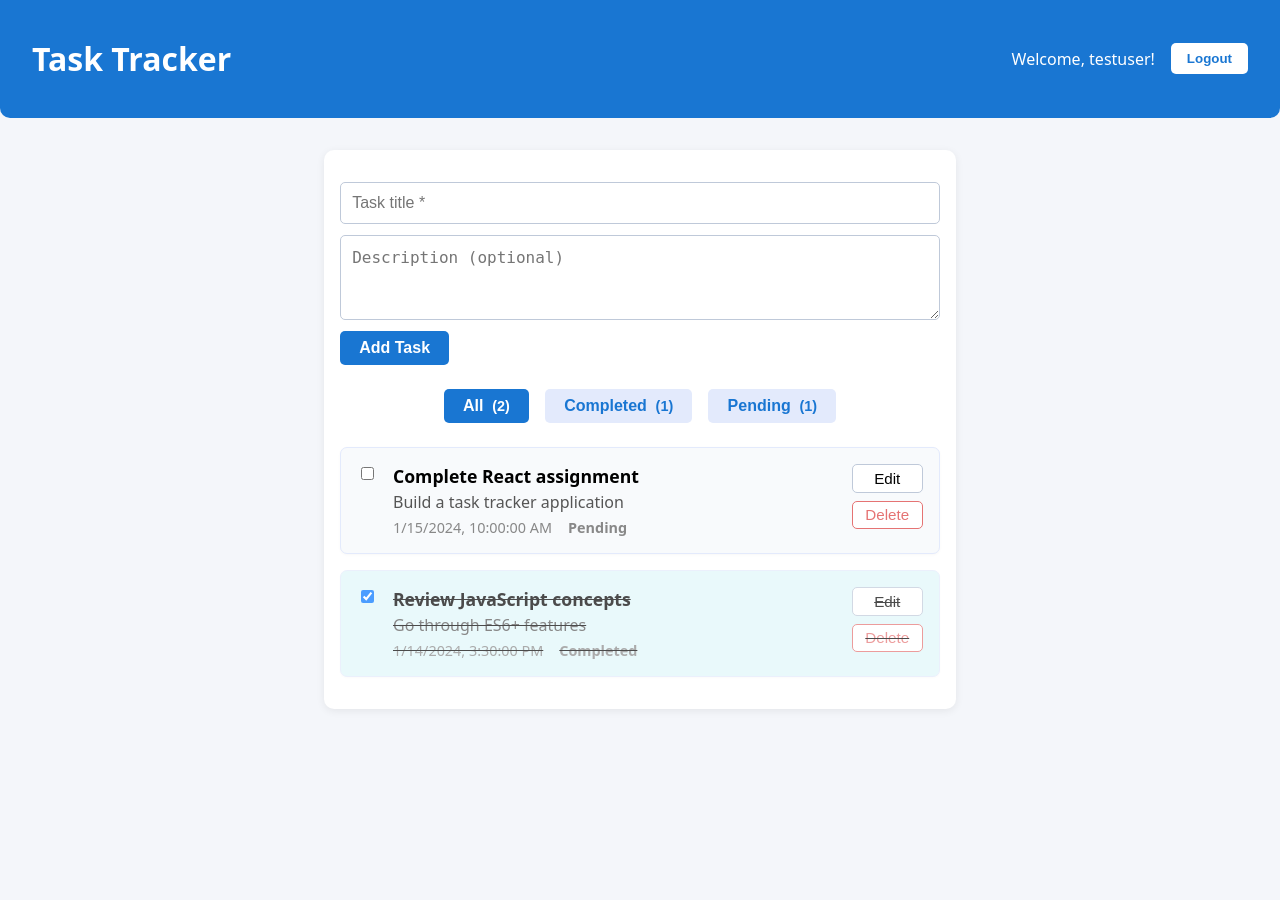
Scenario: Task Tracker App › filters completed tasks
Click the button "Completed (1)": [619, 406] box [545,389,692,423]
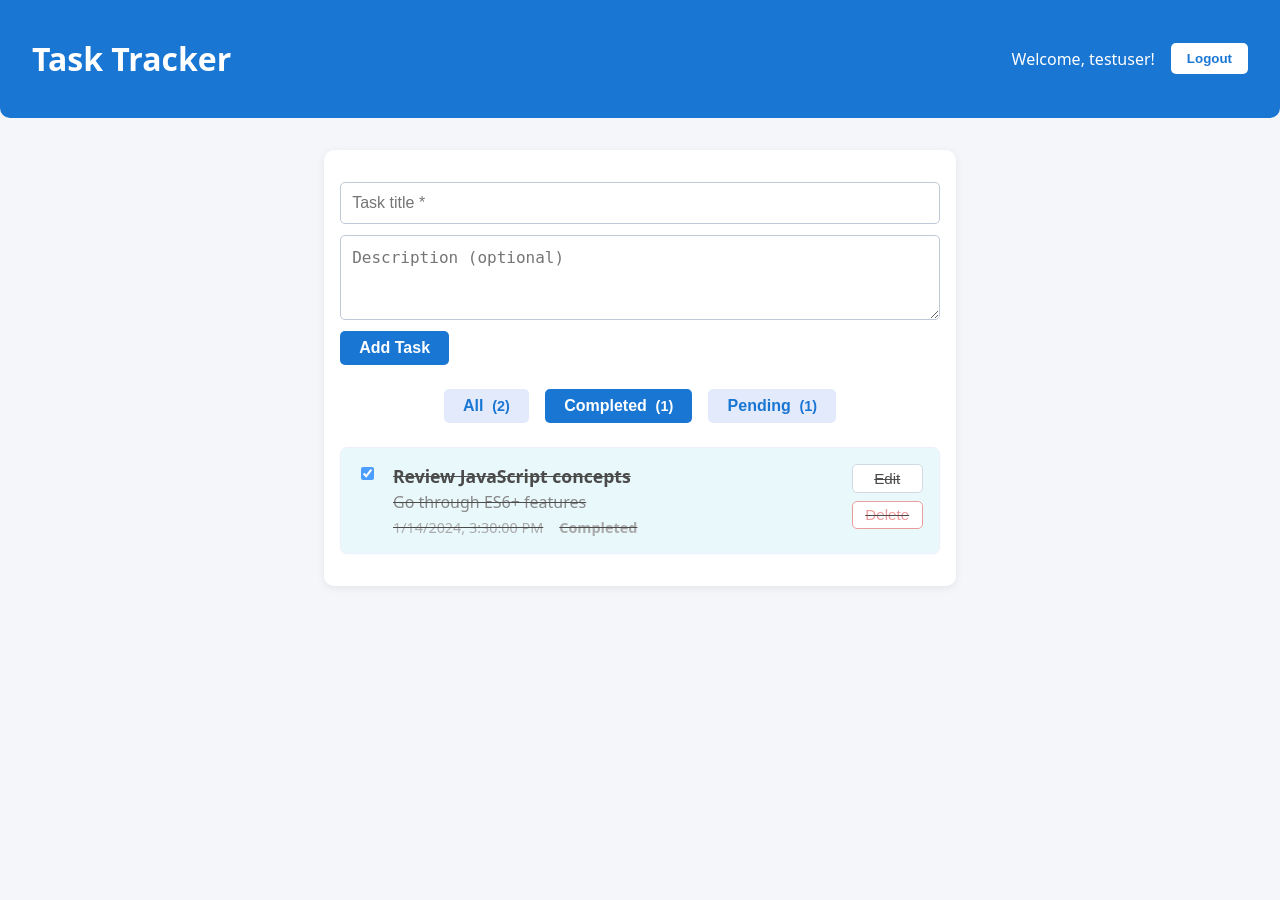
Expected: the text "Review JavaScript concepts" is shown, [393,464,631,488]
Now the text "Complete React assignment" is gone
